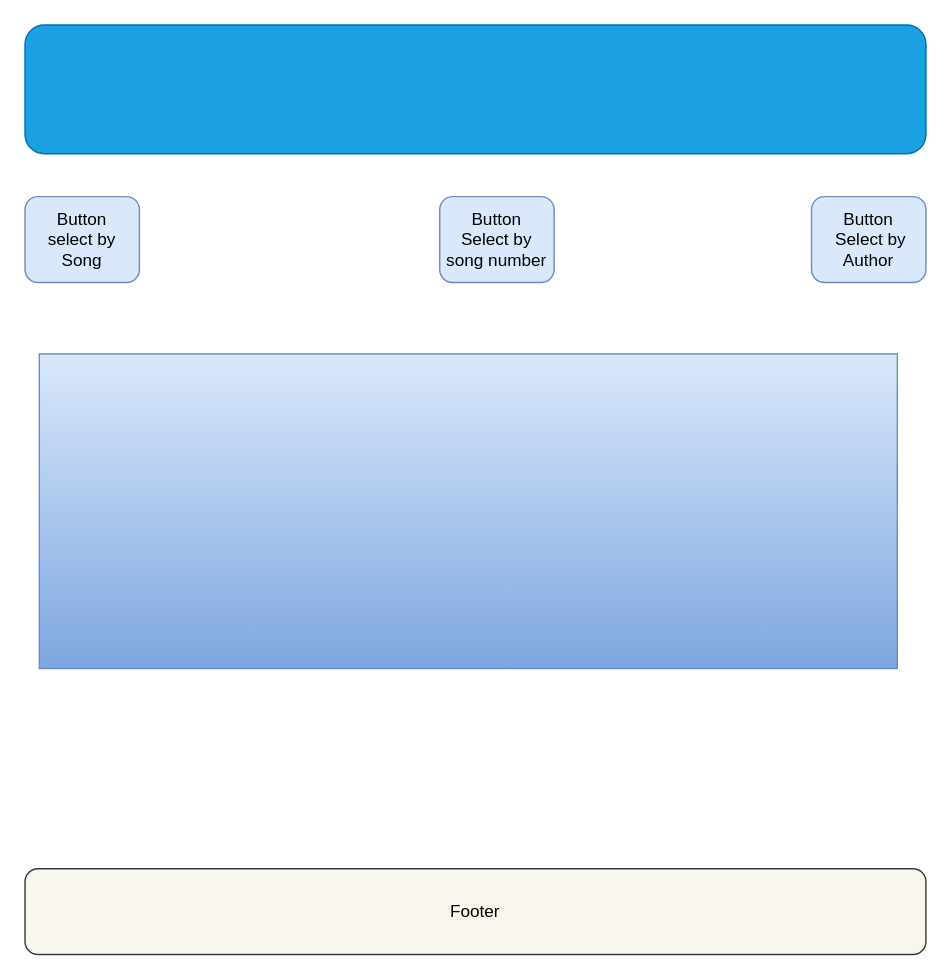
This 951x980 diagram has some shape labels left out. Each missing label, with the centre of its shape:
"Hymnal" goes at point (475, 89).
"Hymne Lyrics / video" goes at point (467, 510).
